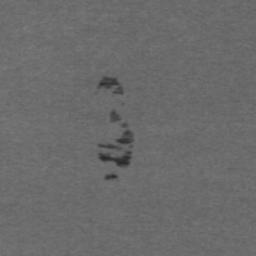Secondary rust skin: (98, 123, 134, 150), (98, 150, 132, 167), (98, 76, 124, 95), (110, 110, 121, 122), (105, 173, 118, 180)
